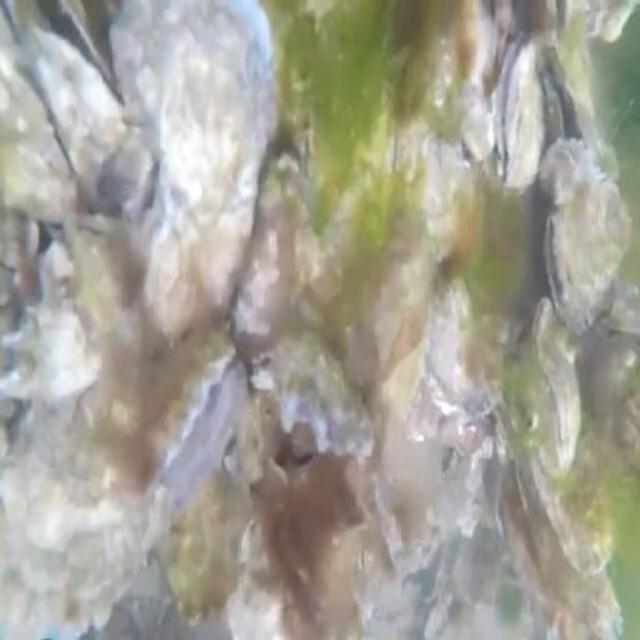Oyster-Closed: (0, 432, 149, 638), (0, 11, 79, 226), (160, 457, 244, 625), (519, 439, 614, 578), (109, 0, 174, 164), (430, 279, 508, 406), (532, 295, 583, 462), (541, 139, 616, 196)
Oyster-Open: (145, 0, 275, 326), (1, 0, 151, 225), (137, 343, 247, 528), (254, 339, 373, 461), (543, 174, 627, 330), (494, 28, 546, 189), (540, 33, 599, 141)
